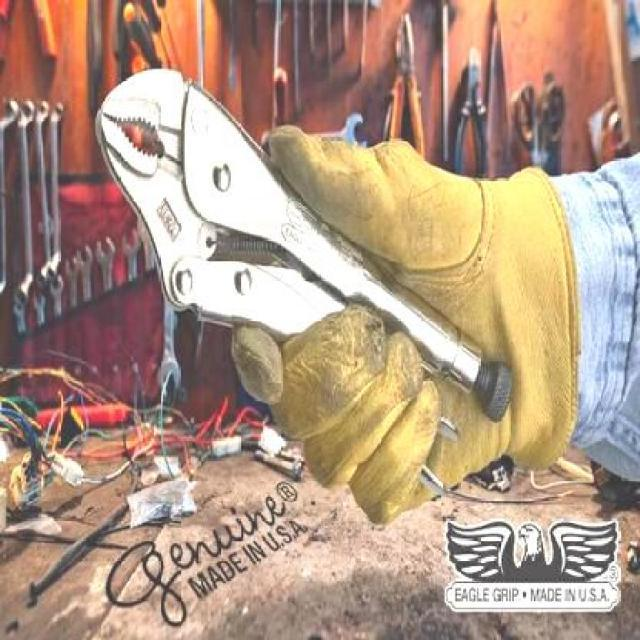pliers: (99, 61, 267, 322)
